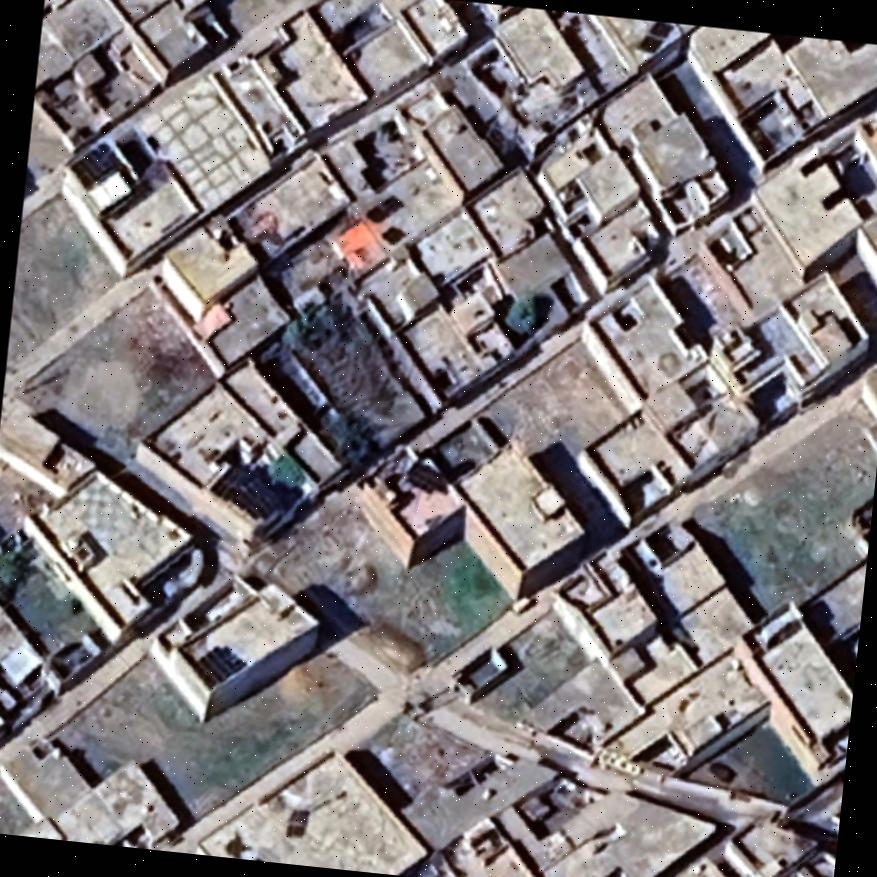Solarpanel: (207, 452, 295, 527), (62, 133, 128, 197), (189, 638, 252, 693)
